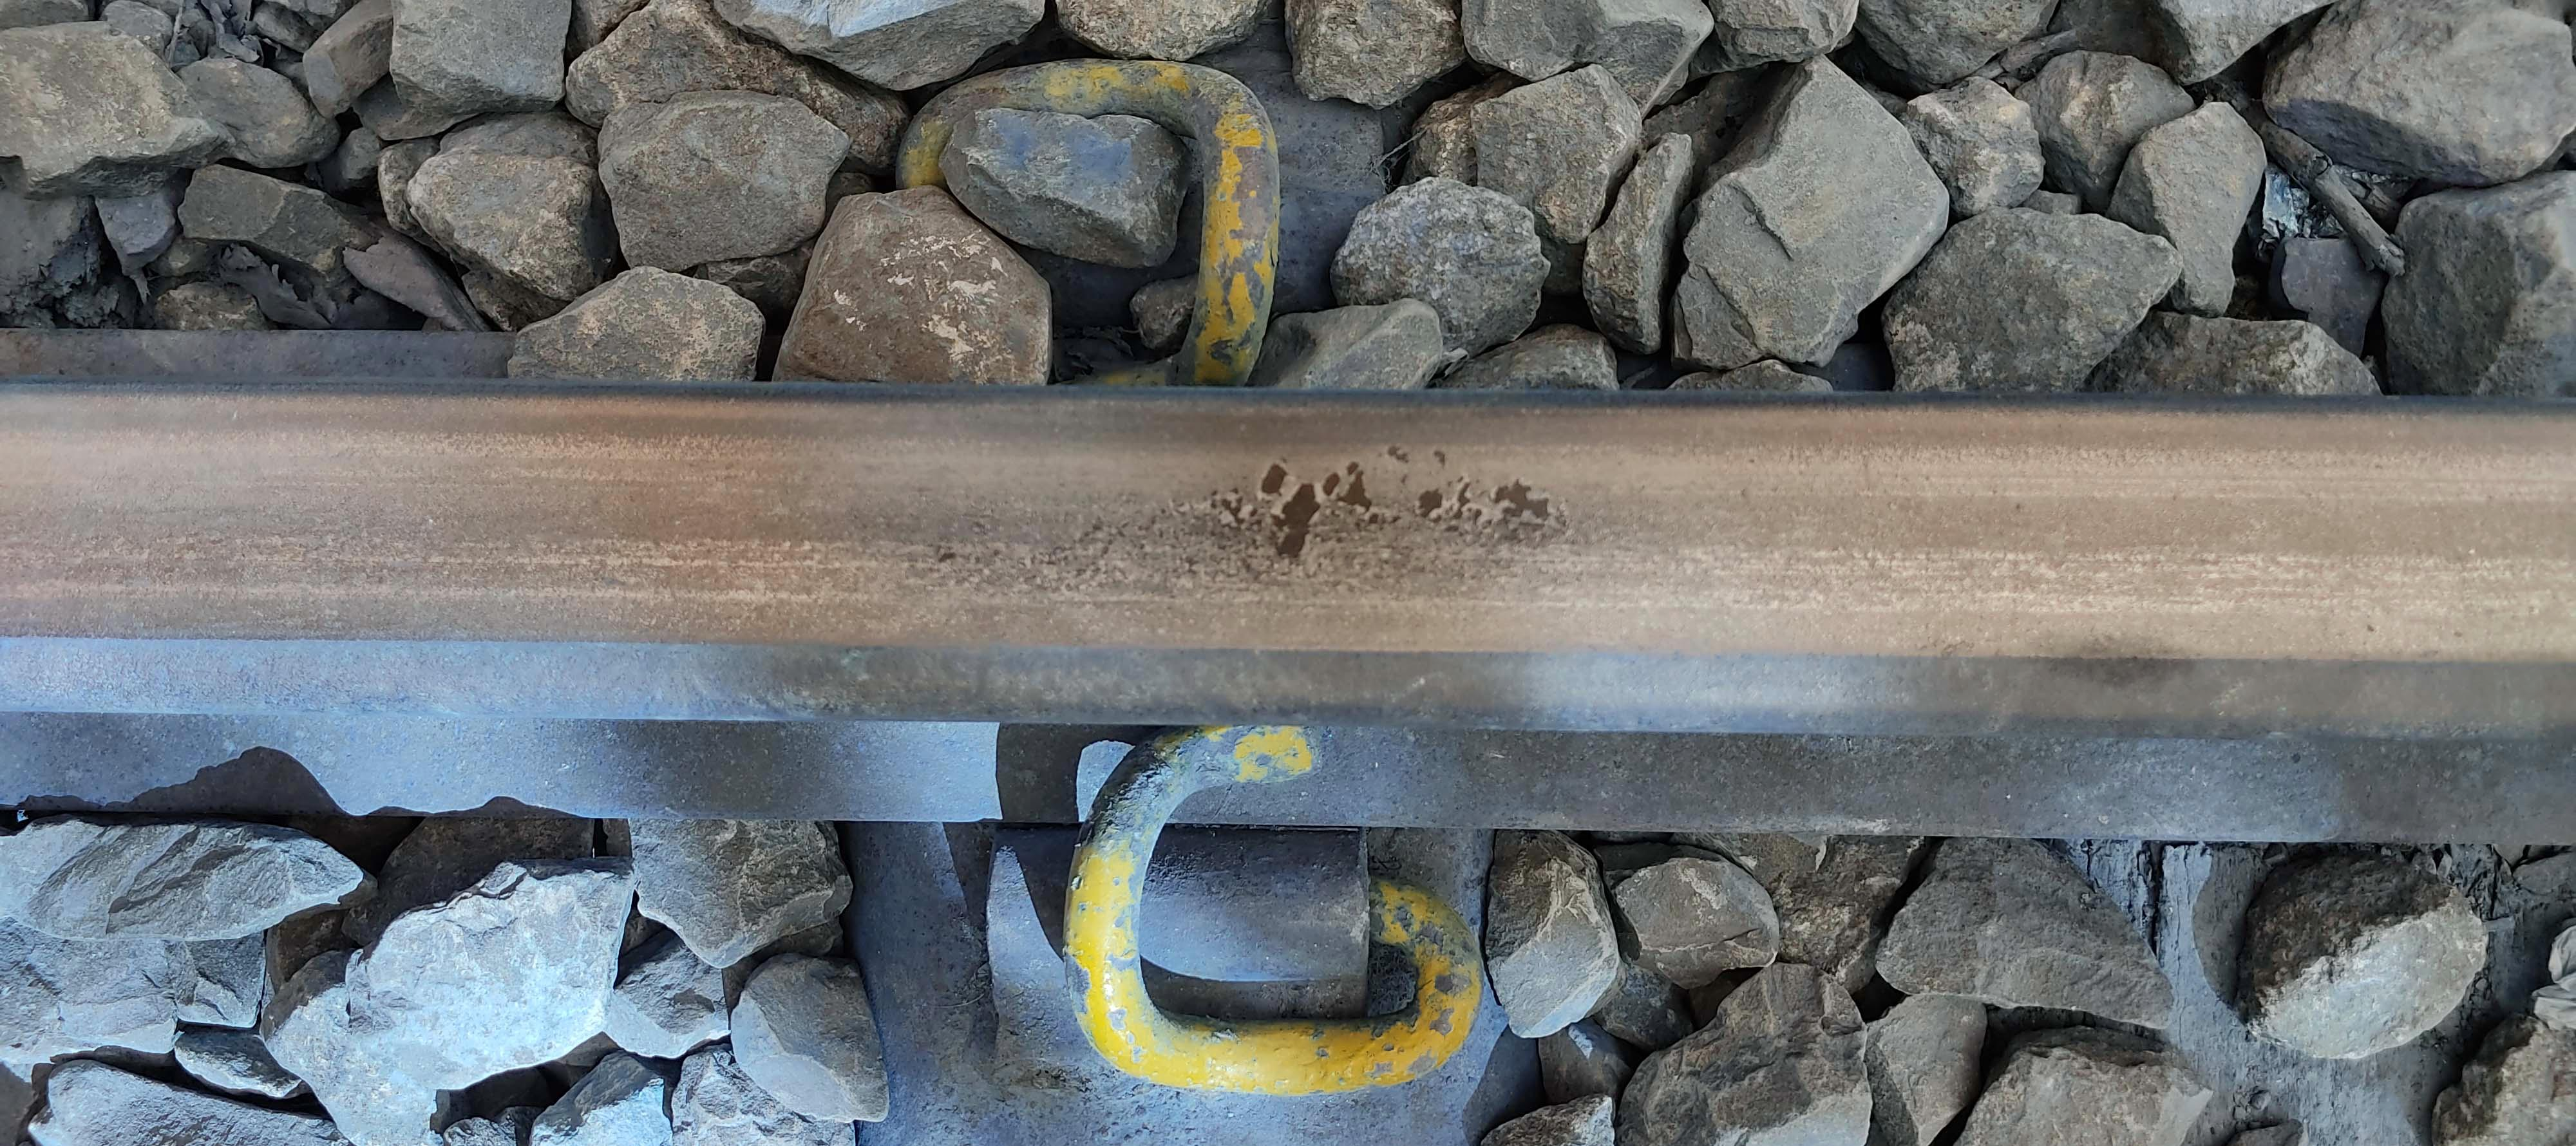error1: (1066, 690, 1569, 1138), (905, 36, 1357, 374)
